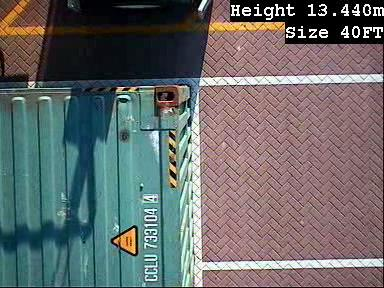groundmarker_2: (157, 77, 227, 132), (193, 236, 231, 288)
